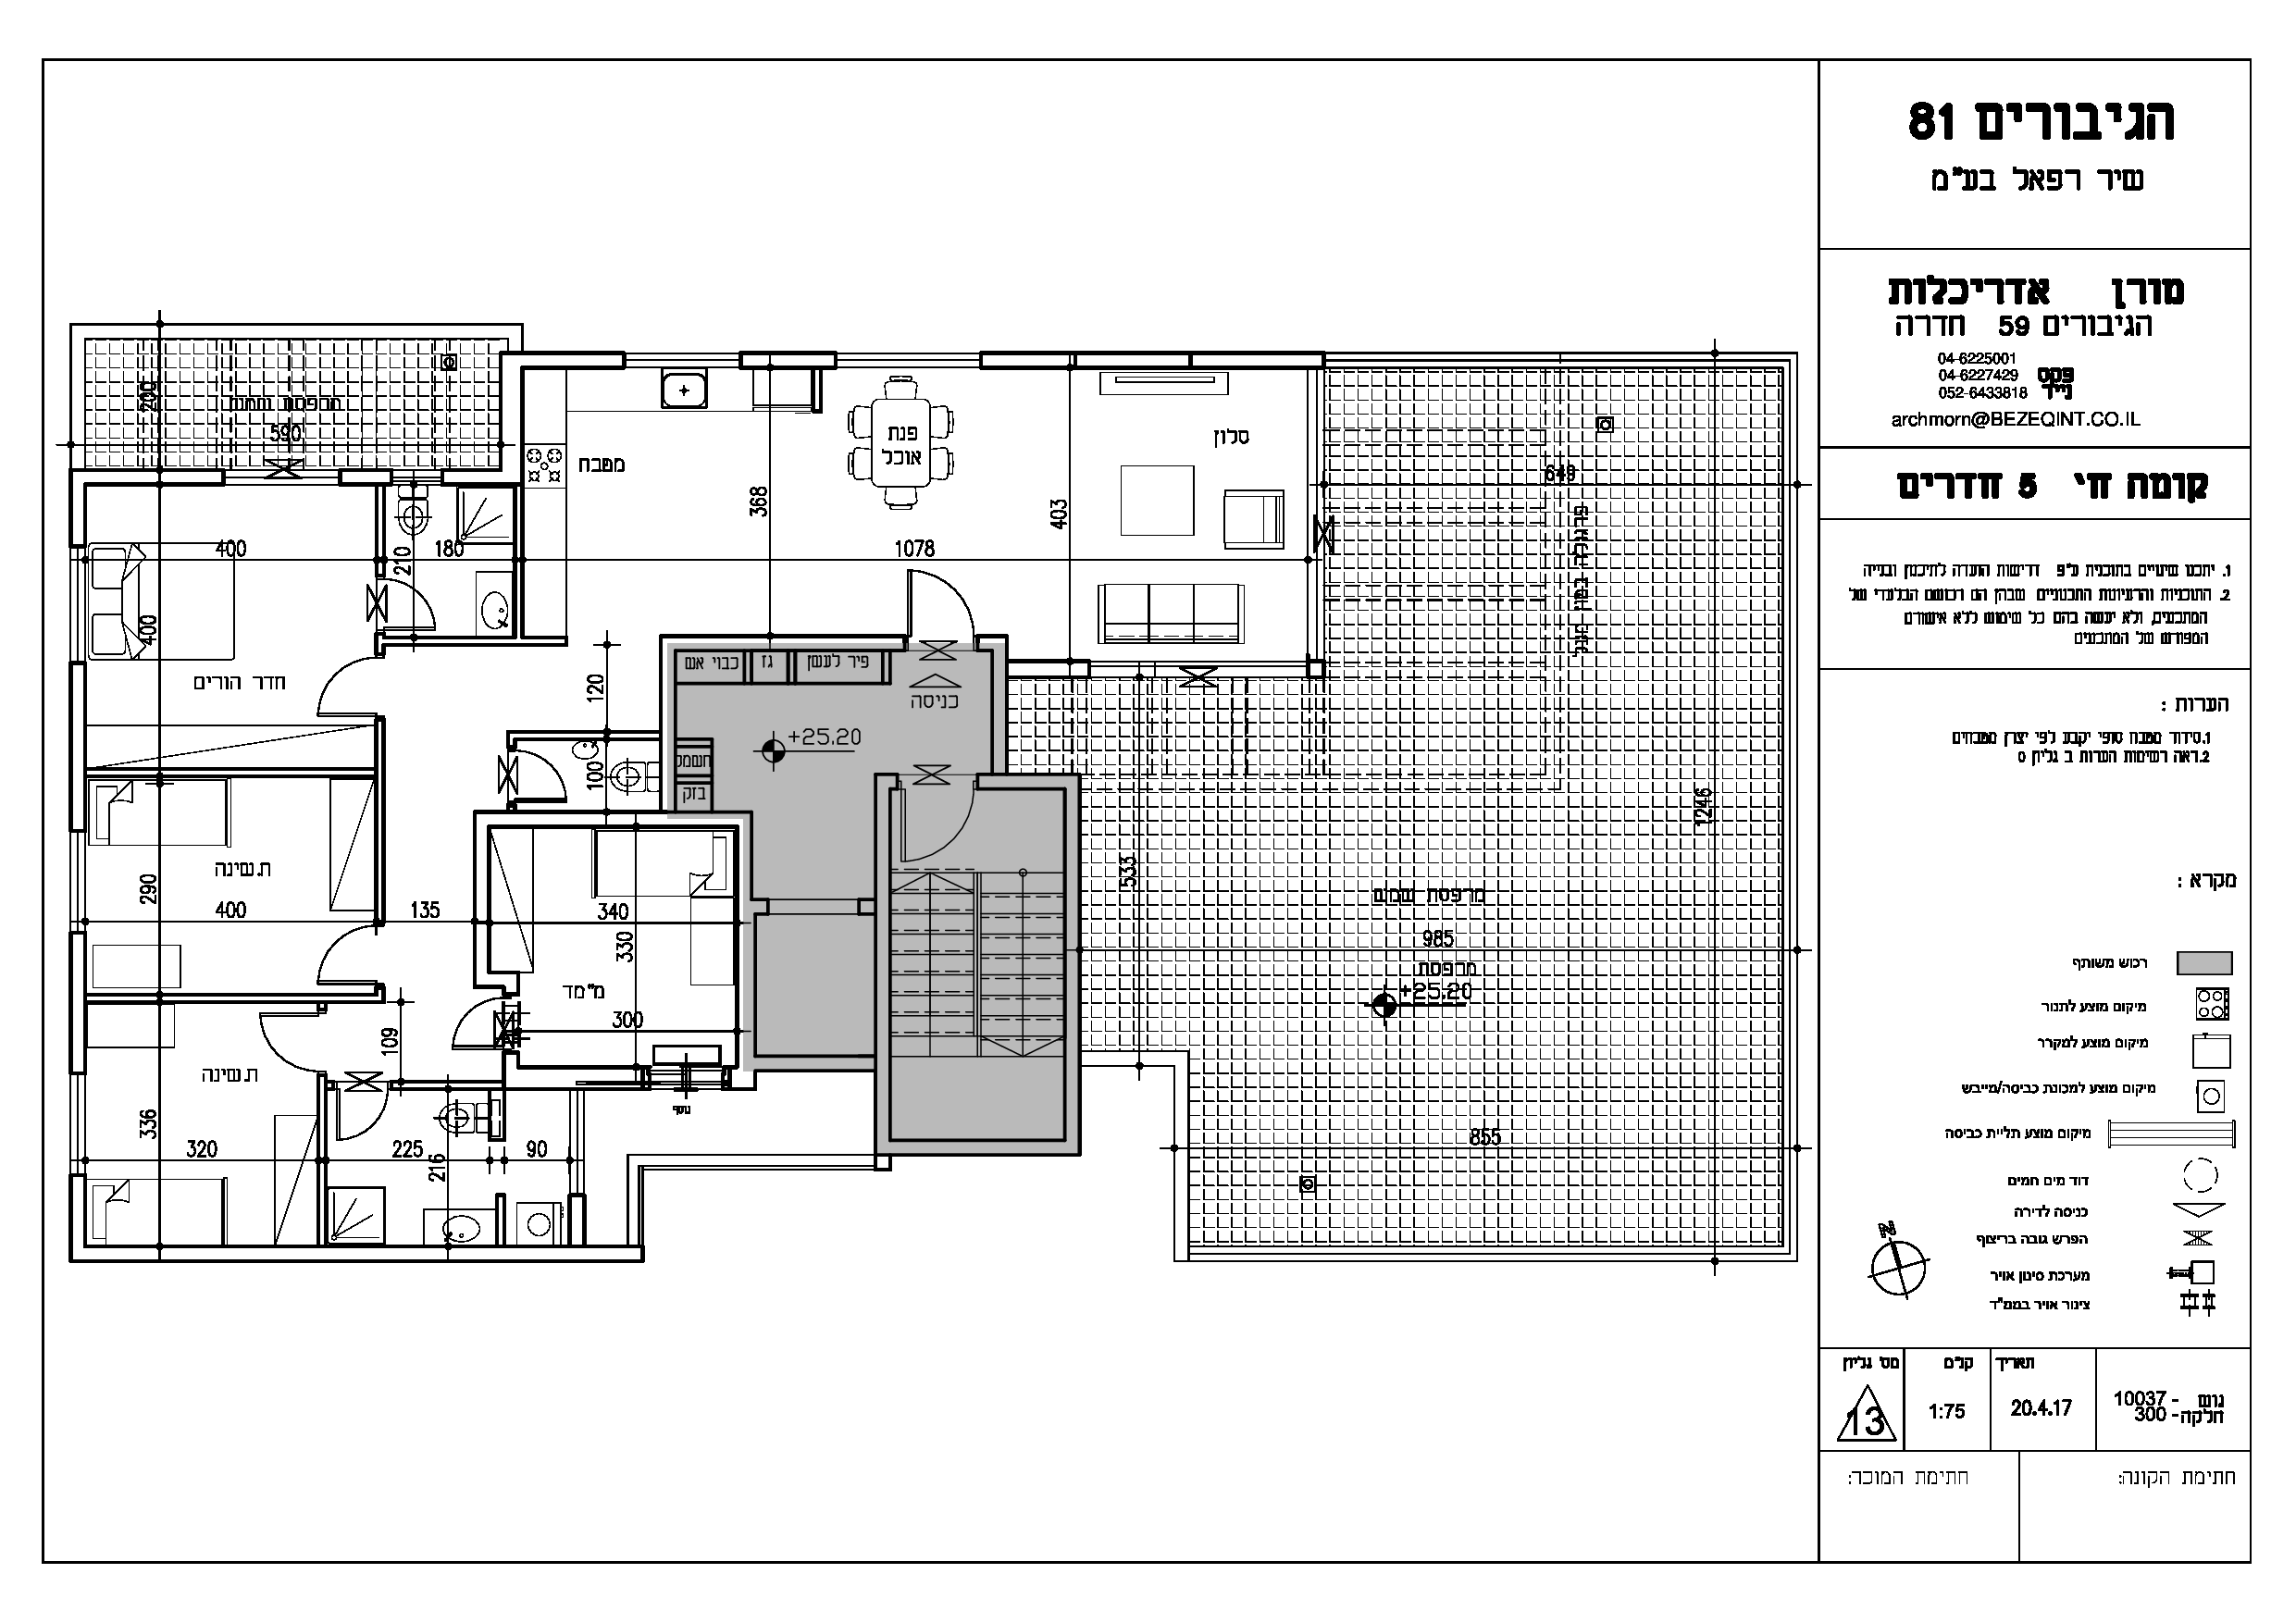door: (899, 566, 986, 636), (311, 653, 392, 718), (253, 1006, 327, 1075), (392, 854, 457, 919), (511, 747, 576, 810), (313, 922, 376, 987), (327, 1087, 393, 1149), (446, 994, 513, 1056)
window: (58, 537, 98, 676), (61, 801, 102, 940), (60, 1059, 100, 1198), (211, 460, 343, 499), (613, 346, 752, 374), (833, 348, 982, 372), (378, 464, 453, 492)
